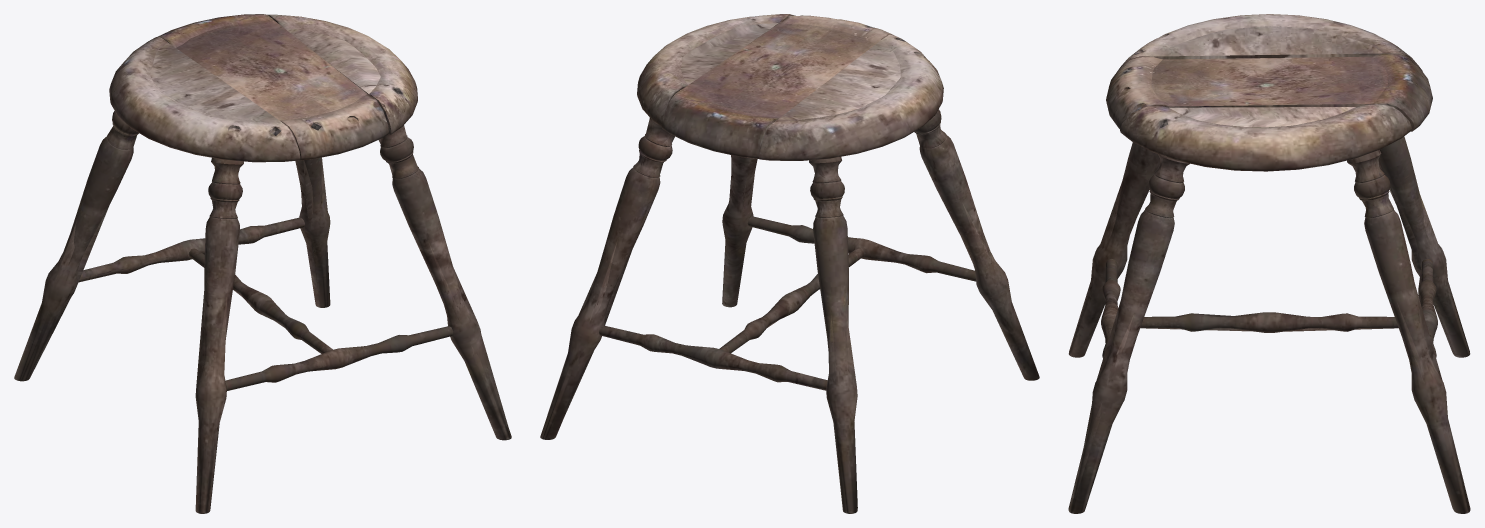
File: wooden_stool_01.glb
3 renders of one model, left to right at view 1: azimuth 30°, elevation 25°; view 2: azimuth 150°, elevation 25°; view 3: azimuth 270°, elevation 25°, orthographic. The views are drawn at different scales.
Visible parts, largest first — view 1: wooden_stool_01, wooden_stool_01_lo; view 2: wooden_stool_01, wooden_stool_01_lo; view 3: wooden_stool_01, wooden_stool_01_lo.
Boxes of the visible parts, x1,y1,x2,y2 form: wooden_stool_01: (14, 14, 511, 513); wooden_stool_01_lo: (31, 19, 510, 433); wooden_stool_01: (540, 14, 1039, 513); wooden_stool_01_lo: (565, 14, 998, 413); wooden_stool_01: (1068, 14, 1470, 513); wooden_stool_01_lo: (1072, 26, 1455, 509).
Size of the model in its own units: 0.4246 by 0.4373 by 0.4424.
1 material, 1 textured.
